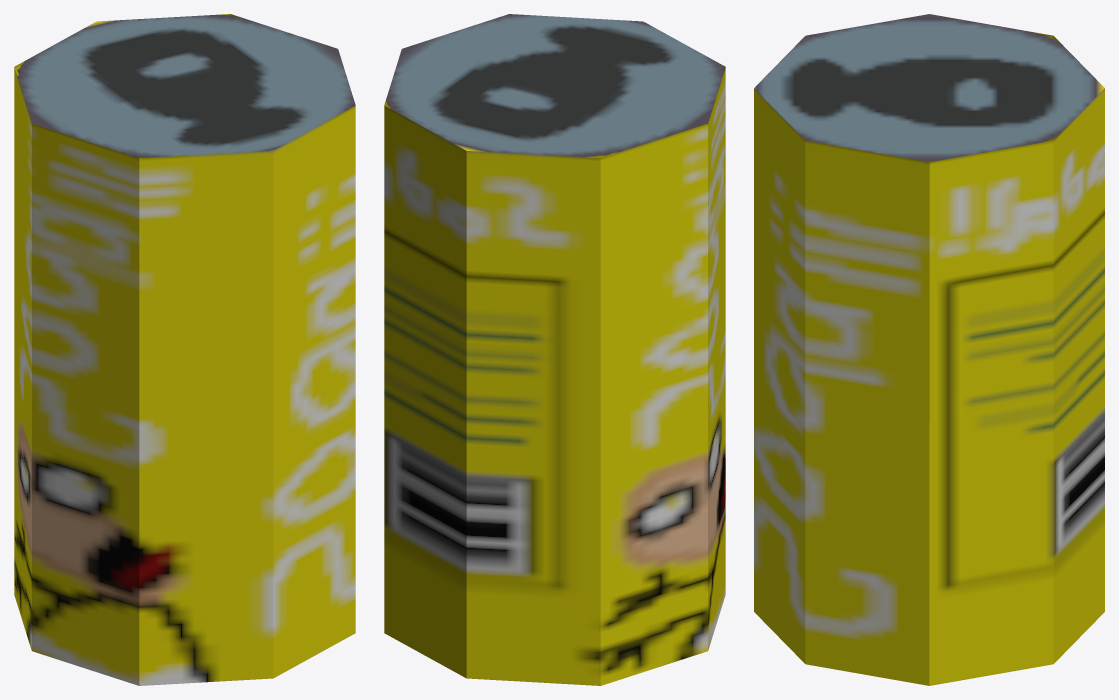
The model's file is soda.fbx.
3 renders of one model, left to right at view 1: azimuth 30°, elevation 25°; view 2: azimuth 150°, elevation 25°; view 3: azimuth 270°, elevation 25°, orthographic.
Visible parts, largest first — view 1: Circle; view 2: Circle; view 3: Circle.
Part boxes in pixels (x1,y1,x2,y2): Circle: (14,14,355,685); Circle: (384,14,725,685); Circle: (754,14,1104,685).
Size of the model in its own units: 13.18 by 21.7 by 13.18.
